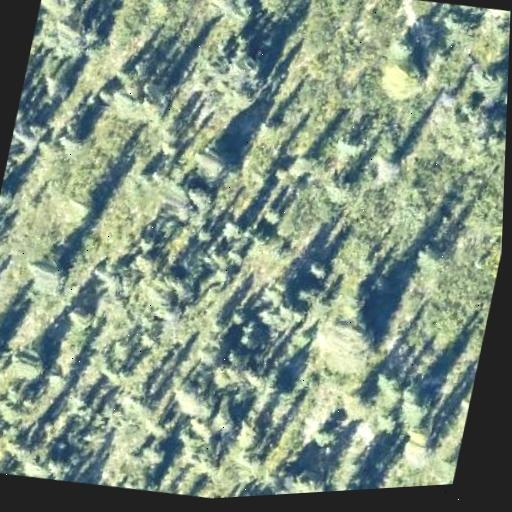tree-top: (181, 28, 278, 131), (301, 293, 392, 380), (425, 90, 508, 178), (30, 116, 99, 187), (105, 64, 170, 130), (160, 363, 225, 426), (46, 7, 105, 62), (373, 54, 433, 107), (181, 138, 239, 192), (456, 51, 509, 107), (22, 249, 73, 302), (192, 0, 263, 36), (394, 377, 437, 431), (5, 337, 54, 384), (406, 232, 451, 278), (361, 145, 407, 189), (324, 121, 372, 163), (229, 409, 269, 458), (279, 461, 337, 494), (322, 163, 366, 206), (336, 383, 374, 430), (124, 241, 165, 284), (430, 2, 477, 39), (248, 0, 309, 28), (188, 330, 227, 369), (57, 384, 96, 422), (177, 177, 217, 214), (135, 438, 174, 475), (37, 69, 76, 104), (299, 253, 332, 290), (306, 424, 340, 459), (253, 197, 288, 231), (318, 472, 377, 492), (428, 447, 459, 485), (65, 298, 96, 335), (386, 29, 421, 59), (37, 0, 79, 22), (0, 172, 20, 215), (218, 214, 247, 243), (450, 390, 471, 428)
